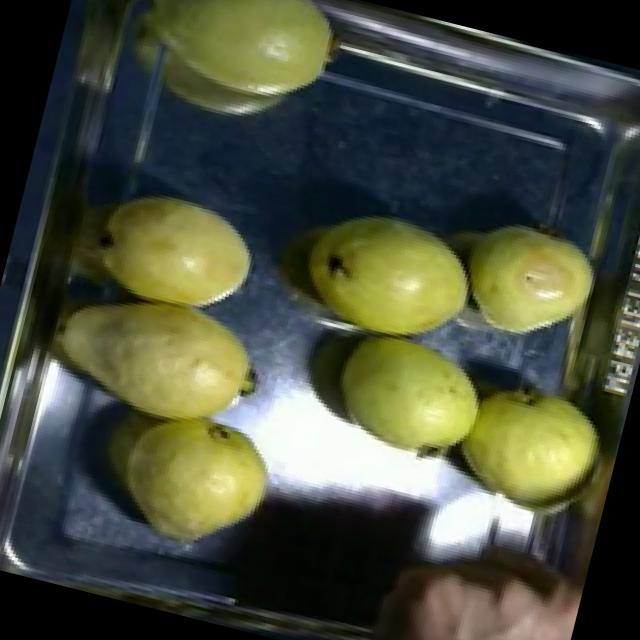Fruit: (33, 270, 283, 454), (92, 0, 357, 152), (282, 186, 494, 358), (90, 390, 289, 568), (303, 320, 501, 482), (436, 370, 621, 530), (78, 171, 271, 324), (379, 509, 591, 640), (440, 202, 612, 362)
